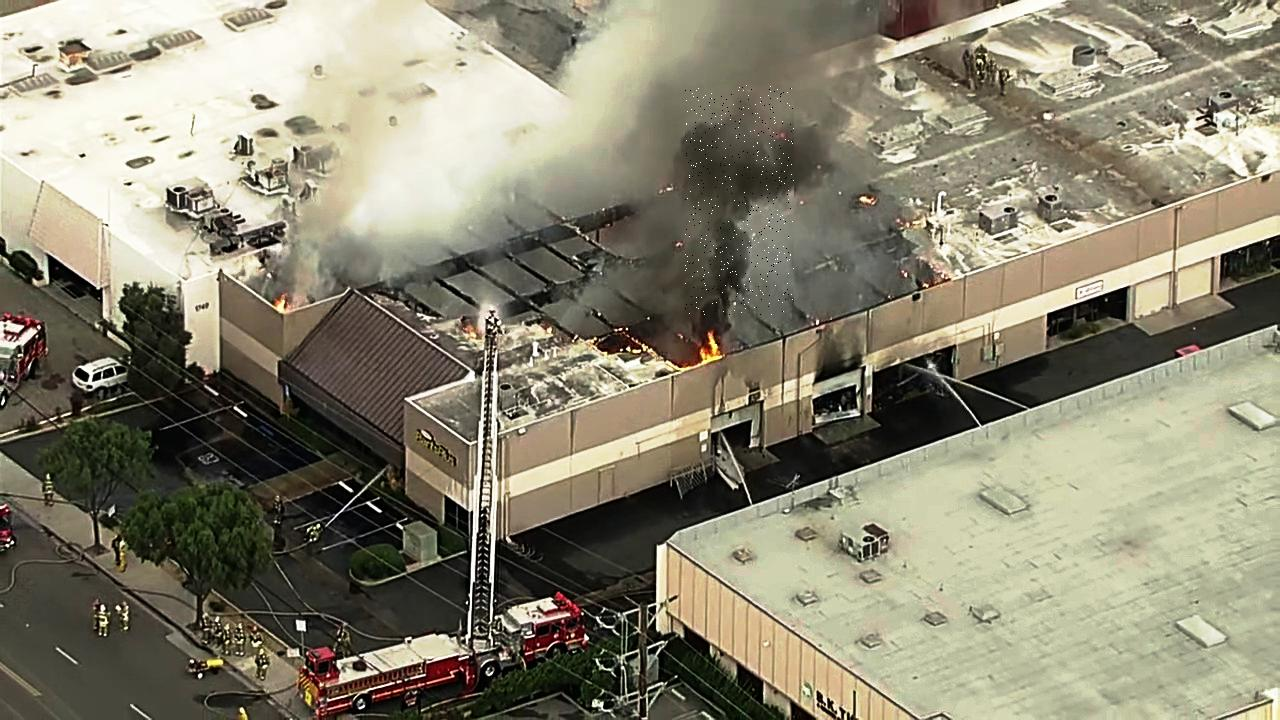smoke: (685, 86, 794, 317)
